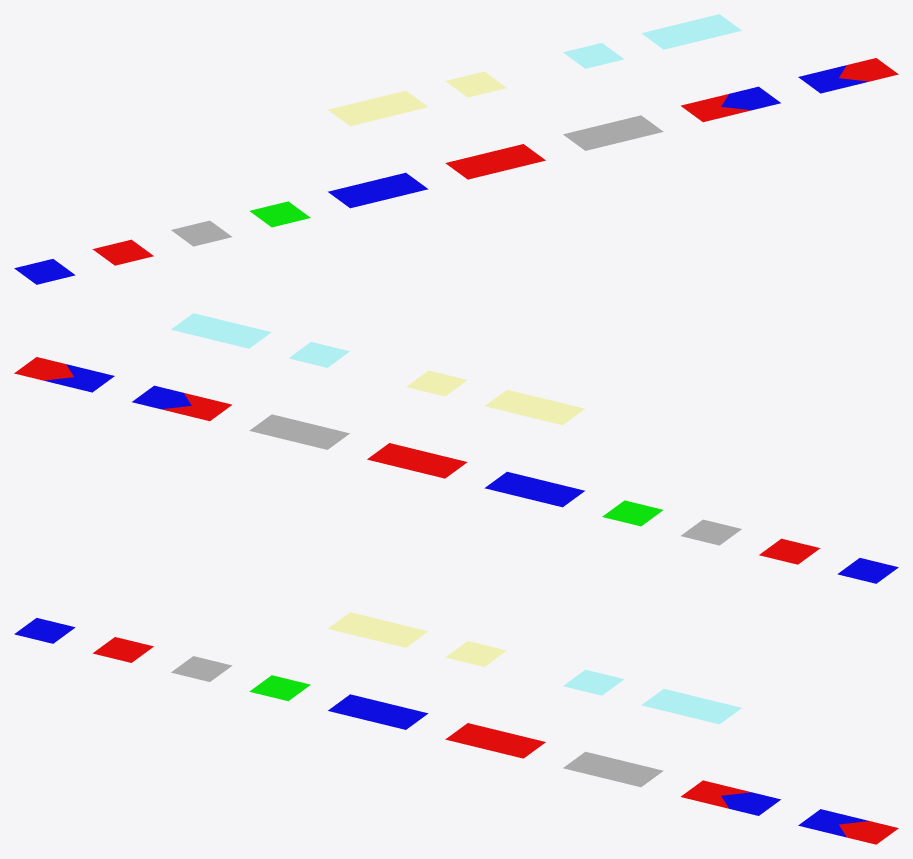
The picture shows the model from 3 angles, top to bottom: view 1: azimuth 30°, elevation 25°; view 2: azimuth 150°, elevation 25°; view 3: azimuth 330°, elevation 25°; orthographic projection.
Visible parts, largest first — view 1: type4, type8, type5, type6, type7, type112, type10, type1, type0, type2, type3, type9 (+1 smaller); view 2: type4, type8, type5, type6, type7, type112, type10, type1, type0, type2, type3, type9 (+1 smaller); view 3: type4, type5, type6, type8, type7, type10, type112, type1, type3, type0, type2, type11 (+1 smaller).
Part boxes in pixels (x1,y1,x2,y2): type4: [328, 172, 428, 208]; type8: [798, 58, 898, 93]; type5: [445, 144, 545, 179]; type6: [563, 115, 663, 150]; type7: [681, 86, 780, 122]; type112: [329, 91, 427, 125]; type10: [642, 14, 741, 49]; type1: [92, 239, 153, 265]; type0: [14, 259, 75, 284]; type2: [171, 220, 231, 246]; type3: [250, 201, 310, 227]; type9: [563, 43, 623, 68]; type4: [484, 471, 584, 507]; type8: [14, 357, 114, 392]; type5: [367, 443, 467, 478]; type6: [249, 414, 349, 449]; type7: [132, 385, 231, 421]; type112: [485, 390, 583, 424]; type10: [171, 313, 270, 348]; type1: [759, 538, 820, 564]; type0: [837, 558, 898, 583]; type2: [681, 519, 741, 545]; type3: [602, 500, 662, 526]; type9: [289, 342, 349, 367]; type4: [328, 694, 428, 729]; type5: [445, 723, 545, 758]; type6: [563, 751, 663, 787]; type8: [798, 809, 898, 844]; type7: [681, 780, 780, 815]; type10: [642, 689, 740, 723]; type112: [328, 612, 427, 647]; type1: [92, 637, 153, 662]; type3: [249, 675, 310, 701]; type0: [14, 618, 75, 643]; type2: [171, 656, 232, 681]; type11: [446, 641, 506, 666].
Bounding box in the file's own units: 22 × 2 × 1.
